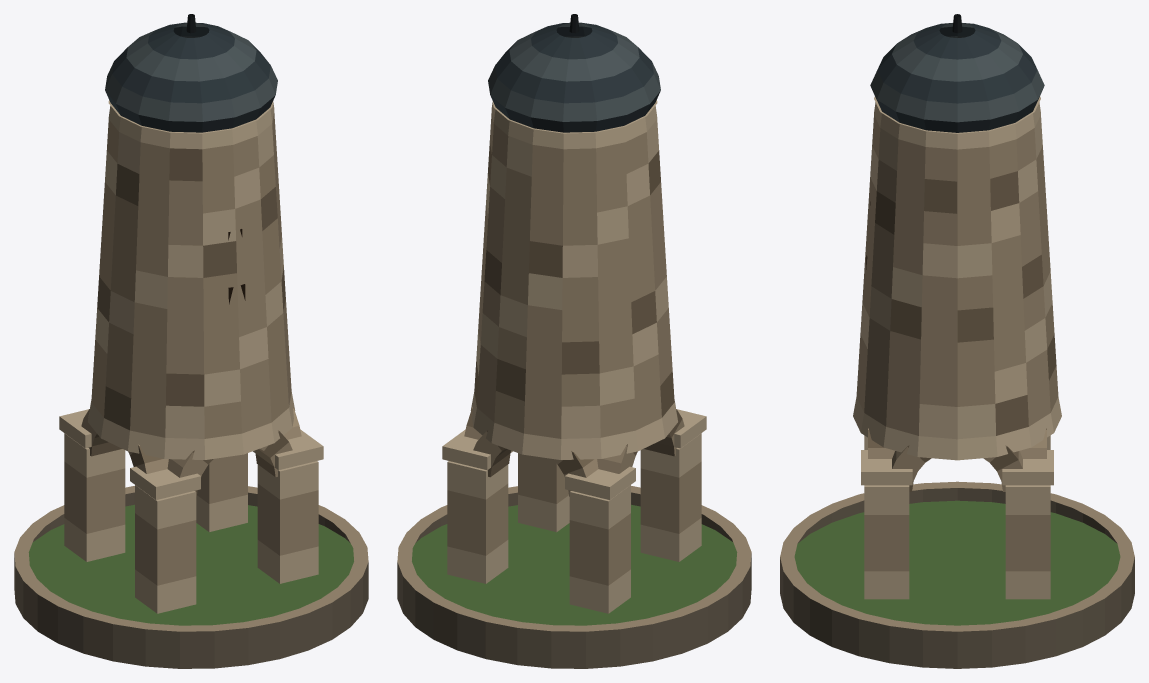
File: chesterton_windmill_body.obj
3 views of the same model, side by side, from view 1: azimuth 30°, elevation 25°; view 2: azimuth 150°, elevation 25°; view 3: azimuth 270°, elevation 25° (orthographic).
Visible parts, largest first — view 1: arch_piers, grass_plinth, slate_dome, retaining_stone_course, upper_stone_drum_1, upper_stone_drum_2, upper_stone_drum_3, upper_stone_drum_4, upper_stone_drum_5, upper_stone_drum_6, upper_stone_drum_7, upper_stone_drum_8 (+4 smaller); view 2: arch_piers, grass_plinth, slate_dome, retaining_stone_course, upper_stone_drum_1, upper_stone_drum_2, upper_stone_drum_3, upper_stone_drum_4, upper_stone_drum_5, upper_stone_drum_6, upper_stone_drum_7, upper_stone_drum_8 (+4 smaller); view 3: grass_plinth, retaining_stone_course, slate_dome, arch_piers, upper_stone_drum_1, upper_stone_drum_2, upper_stone_drum_3, upper_stone_drum_4, upper_stone_drum_5, upper_stone_drum_6, upper_stone_drum_7, upper_stone_drum_8 (+4 smaller).
Part boxes in pixels (x1,y1,x2,y2): arch_piers: [59, 409, 323, 613]; grass_plinth: [14, 504, 368, 668]; slate_dome: [105, 22, 277, 132]; retaining_stone_course: [14, 486, 368, 650]; upper_stone_drum_1: [91, 361, 291, 438]; upper_stone_drum_2: [93, 329, 289, 406]; upper_stone_drum_3: [95, 297, 287, 374]; upper_stone_drum_4: [97, 267, 285, 342]; upper_stone_drum_5: [99, 236, 283, 310]; upper_stone_drum_6: [101, 205, 281, 277]; upper_stone_drum_7: [103, 173, 279, 245]; upper_stone_drum_8: [105, 141, 277, 213]; arch_piers: [442, 409, 706, 613]; grass_plinth: [397, 504, 751, 668]; slate_dome: [488, 22, 660, 132]; retaining_stone_course: [397, 486, 751, 650]; upper_stone_drum_1: [474, 361, 674, 438]; upper_stone_drum_2: [476, 329, 672, 406]; upper_stone_drum_3: [478, 297, 670, 374]; upper_stone_drum_4: [480, 267, 668, 342]; upper_stone_drum_5: [482, 236, 666, 310]; upper_stone_drum_6: [484, 205, 664, 277]; upper_stone_drum_7: [486, 173, 662, 245]; upper_stone_drum_8: [488, 141, 660, 213]; grass_plinth: [780, 500, 1134, 668]; retaining_stone_course: [780, 481, 1134, 650]; slate_dome: [870, 23, 1044, 132]; arch_piers: [861, 435, 1053, 599]; upper_stone_drum_1: [856, 365, 1058, 439]; upper_stone_drum_2: [858, 334, 1056, 406]; upper_stone_drum_3: [860, 303, 1054, 374]; upper_stone_drum_4: [862, 271, 1052, 342]; upper_stone_drum_5: [864, 240, 1050, 310]; upper_stone_drum_6: [866, 209, 1048, 278]; upper_stone_drum_7: [868, 177, 1046, 245]; upper_stone_drum_8: [870, 146, 1044, 213].
Bounding box in the file's own units: 492 × 885 × 492.
